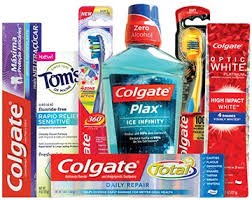colgate-Plax: (104, 8, 186, 154)
colgate-medium: (50, 155, 225, 197), (3, 24, 43, 195)
